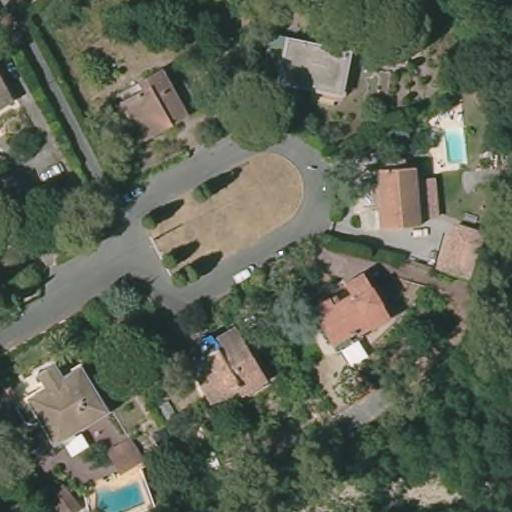pool: (87, 476, 150, 511), (442, 124, 470, 164), (184, 335, 224, 361)
